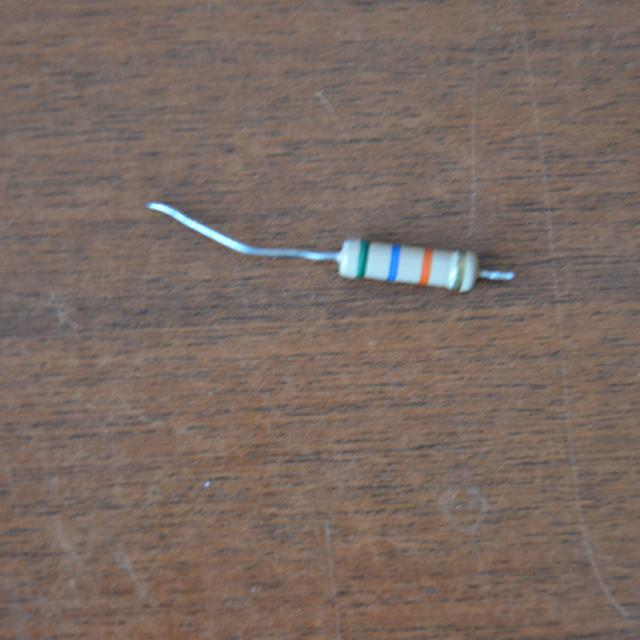blue: (389, 243, 399, 279)
gold: (455, 251, 465, 290)
green: (358, 240, 368, 276)
orange: (421, 248, 431, 283)
resistor: (326, 227, 497, 313)
